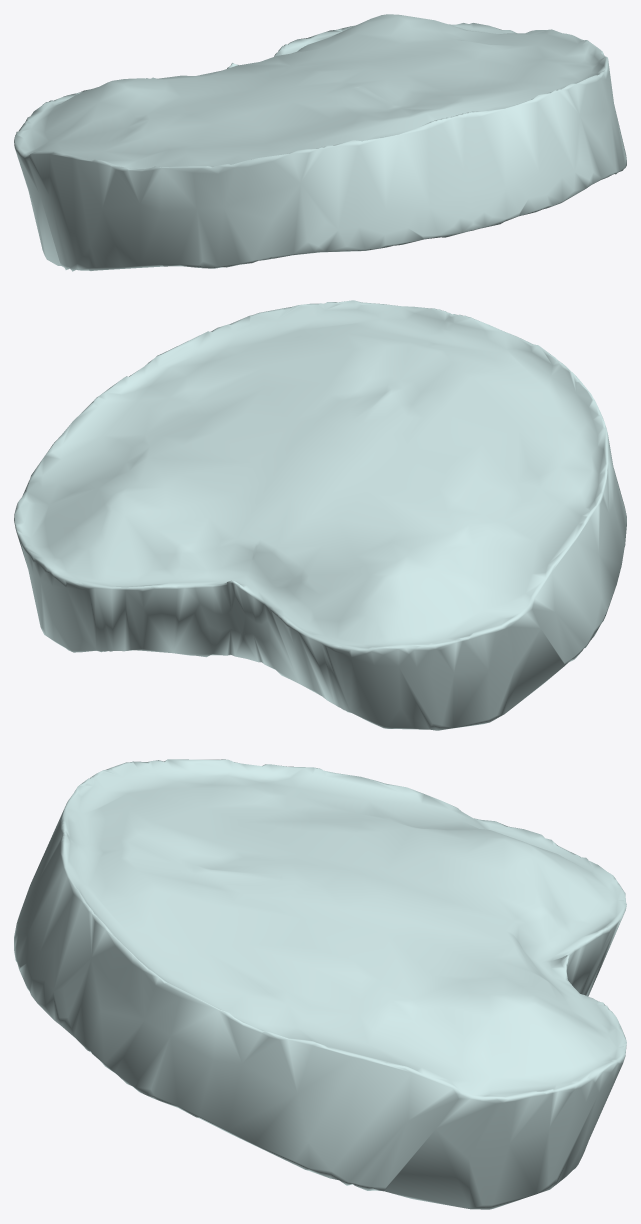
Rendered from Intervertebral_disc_T12-L1_Generated_Mesh_From_X3D.083.glb.
3 renders of one model, top to bottom at view 1: azimuth 30°, elevation 25°; view 2: azimuth 150°, elevation 25°; view 3: azimuth 270°, elevation 25°, orthographic. The views are drawn at different scales.
Visible parts, largest first — view 1: Intervertebral_disc_T12-L1_Generated_Mesh_From_X3D.083; view 2: Intervertebral_disc_T12-L1_Generated_Mesh_From_X3D.083; view 3: Intervertebral_disc_T12-L1_Generated_Mesh_From_X3D.083.
Boxes of the visible parts, x1,y1,x2,y2 form: Intervertebral_disc_T12-L1_Generated_Mesh_From_X3D.083: (14,14,626,271); Intervertebral_disc_T12-L1_Generated_Mesh_From_X3D.083: (14,300,626,730); Intervertebral_disc_T12-L1_Generated_Mesh_From_X3D.083: (14,759,626,1209).
Bounding box in the file's own units: 0.0445 × 0.0182 × 0.0397.
